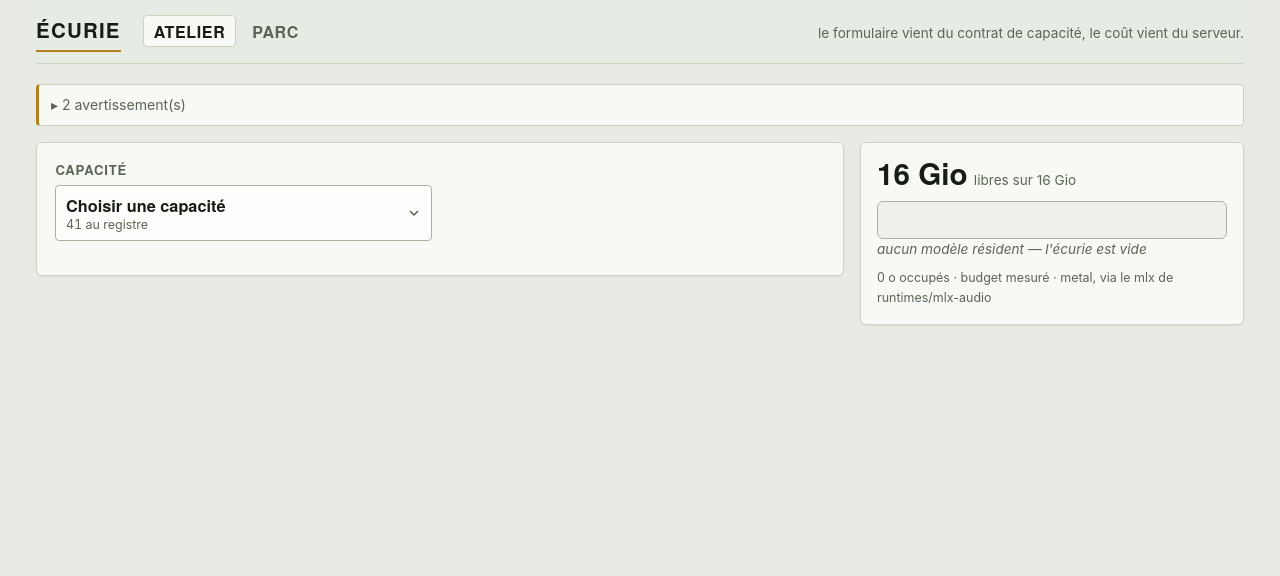
Test: ce que le job a produit › changer de capacite retire le job de l_ecran
The image size is (1280, 576).
Click the button "Choisir une capacité 41 au registre": (146, 205) [55,185,432,241]
(page scrolled)
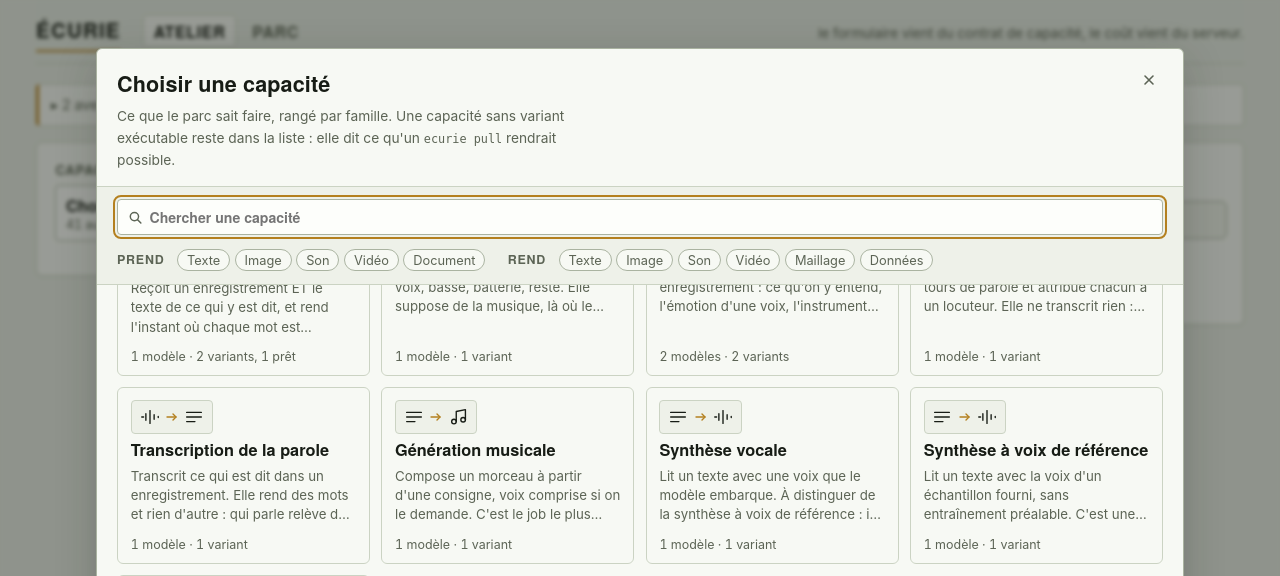
Click the button "Synthèse vocale": (772, 475) [646,387,899,564]
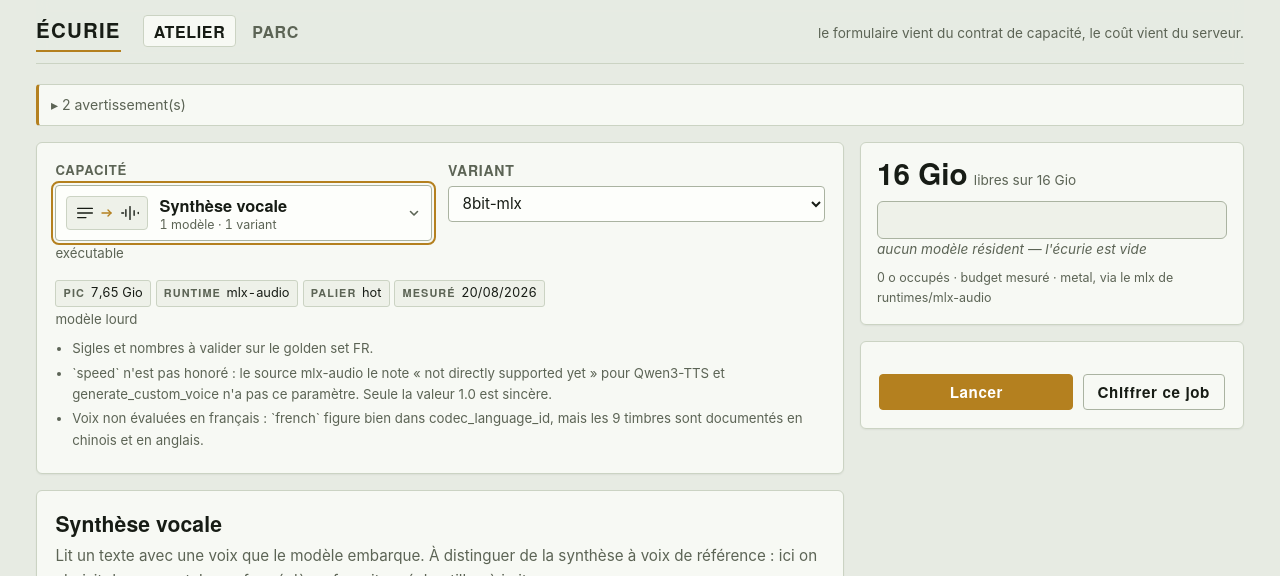
Click the button "Lancer": (976, 392) [879,374,1073,410]
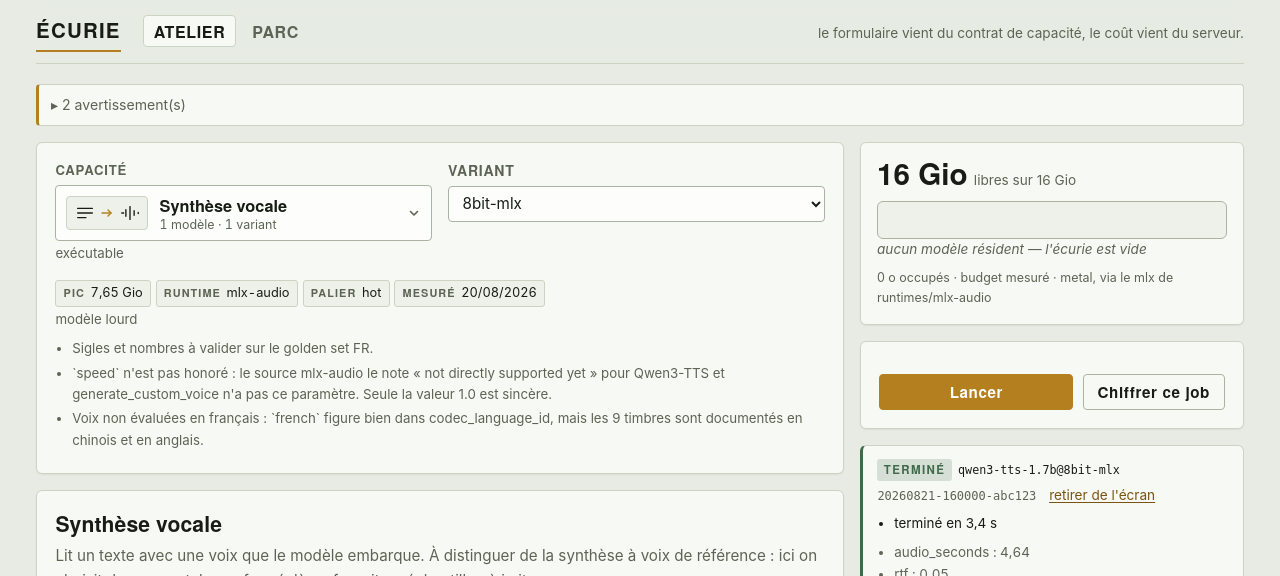
Click the button named "Capacité": (244, 213) [55,185,432,241]
(page scrolled)
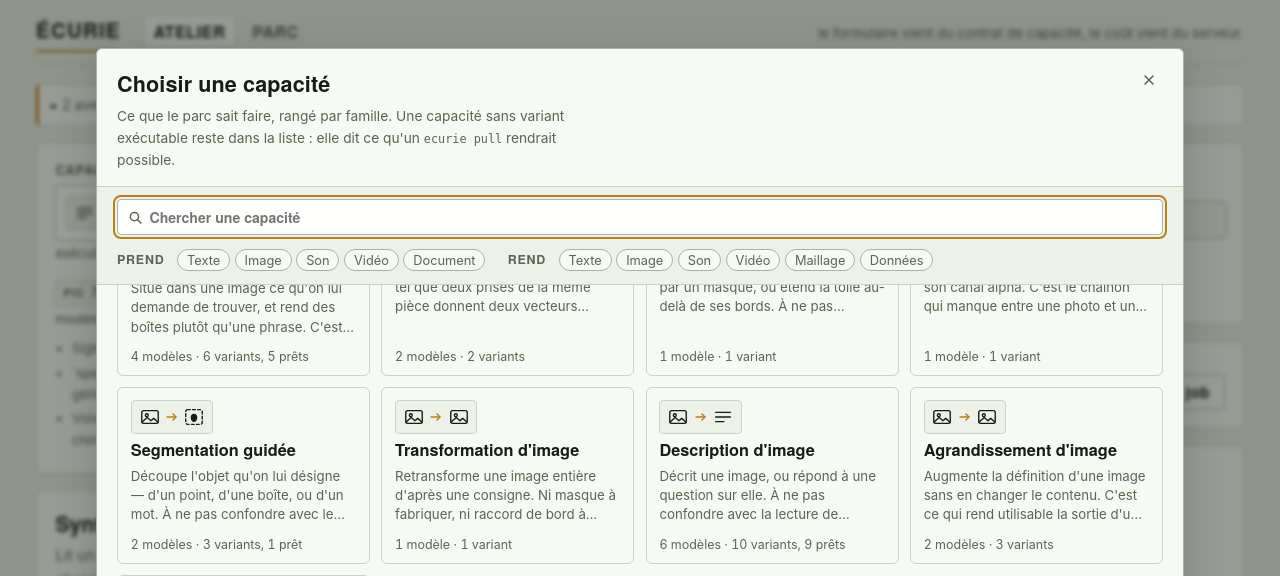
Click the button "Agrandissement d'image": (1036, 476) [910,387,1163,564]
(page scrolled)
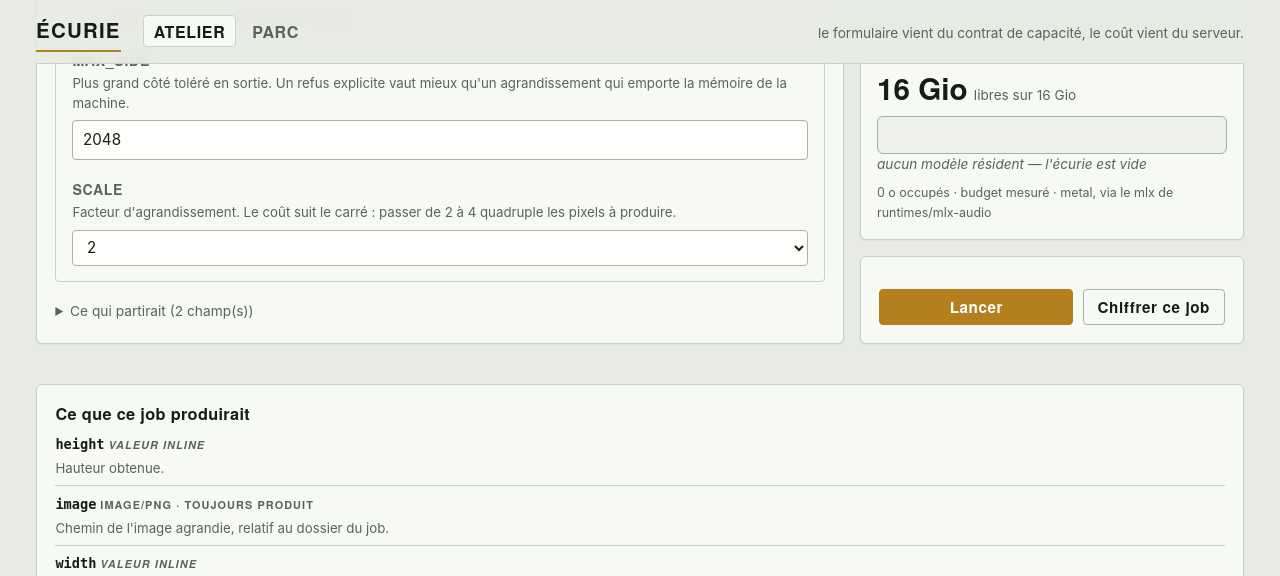
Expected: the heading "Ce que ce job produirait" is shown, [55,402,250,425]
